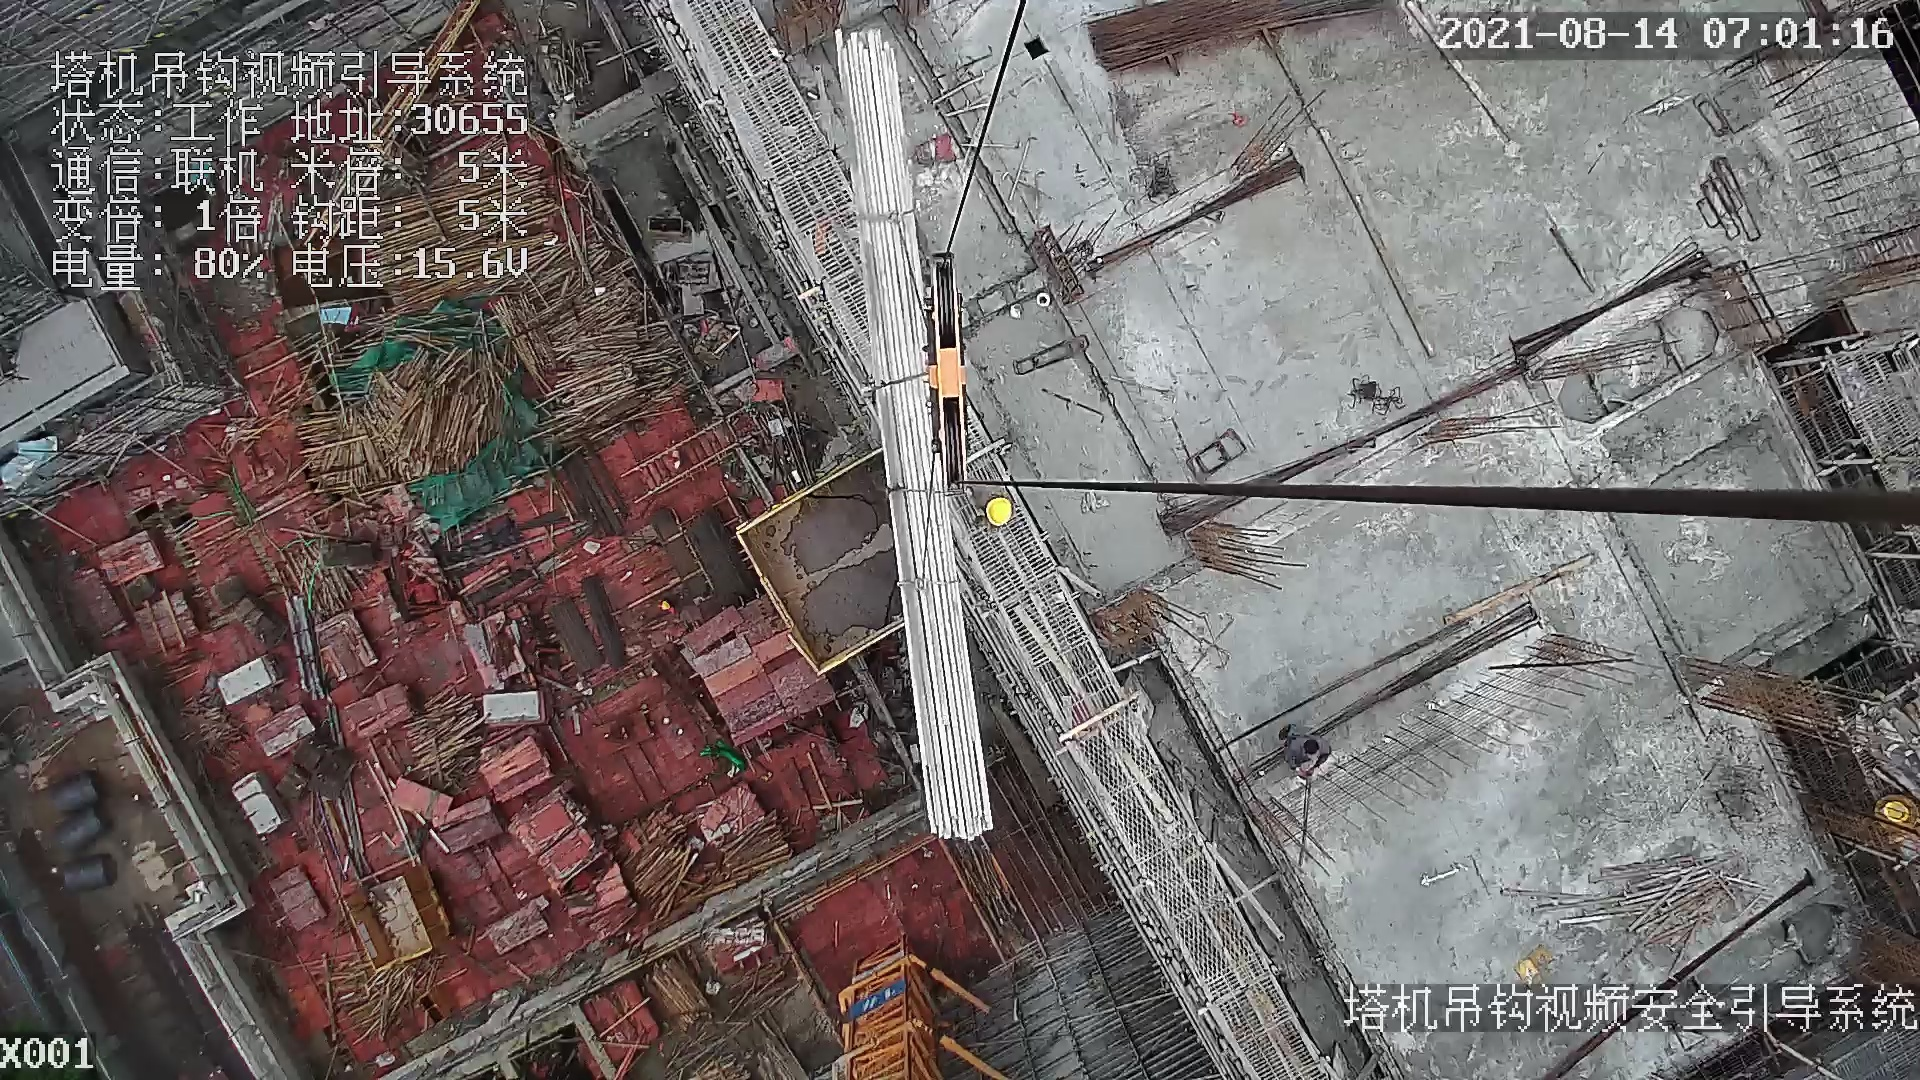helmet: (980, 488, 1015, 530)
hook: (909, 246, 978, 497)
person: (1273, 717, 1333, 780), (967, 489, 1006, 533)
